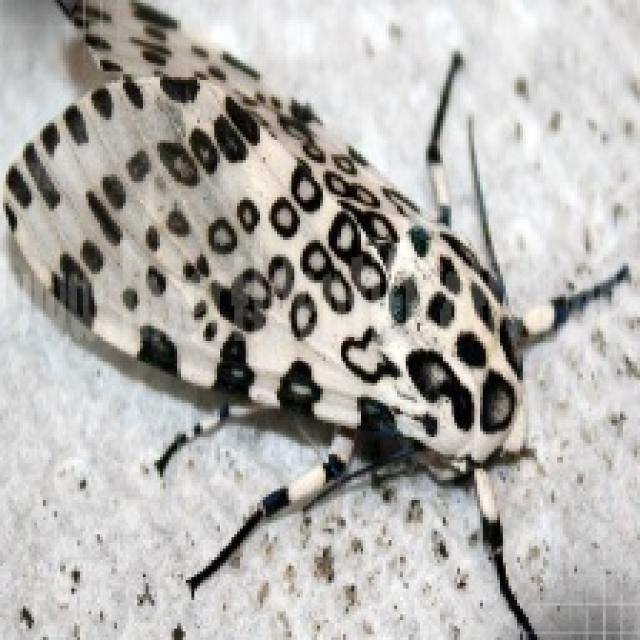butterfly: (0, 0, 631, 637)
